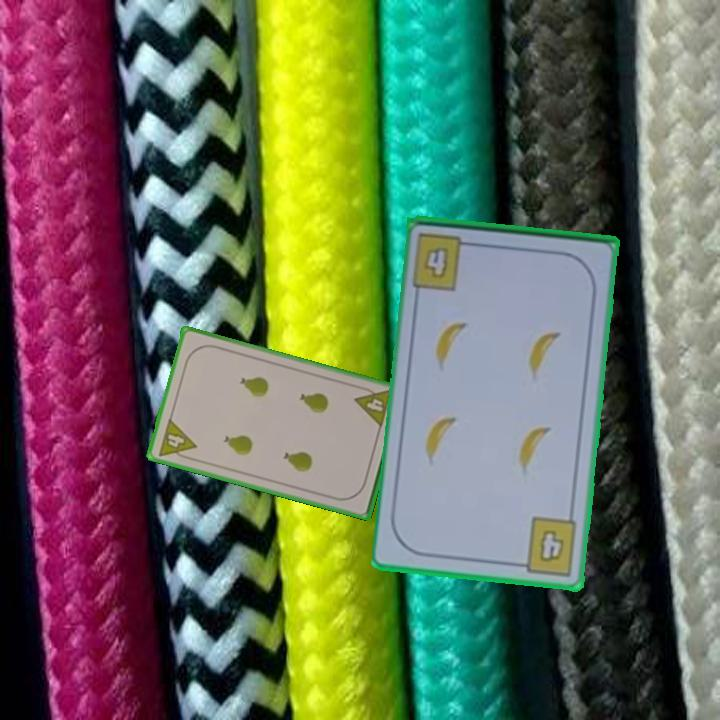4b: (512, 513, 581, 579), (408, 229, 478, 293)
4p: (155, 415, 199, 464), (351, 383, 394, 431)
